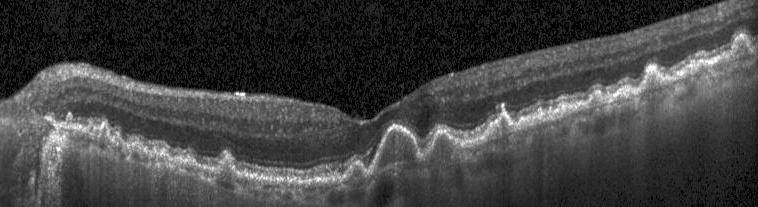retinal_drusen: (376, 129, 416, 173), (431, 132, 455, 159), (488, 115, 510, 140), (641, 69, 663, 93), (730, 36, 752, 60), (520, 113, 552, 129), (682, 61, 710, 77), (346, 164, 364, 184), (220, 159, 237, 177), (125, 141, 148, 154), (614, 88, 635, 102), (555, 103, 574, 118), (173, 154, 196, 165), (99, 125, 112, 143), (590, 93, 606, 107), (159, 148, 168, 159), (151, 146, 158, 155), (92, 129, 99, 137), (86, 126, 93, 132)
